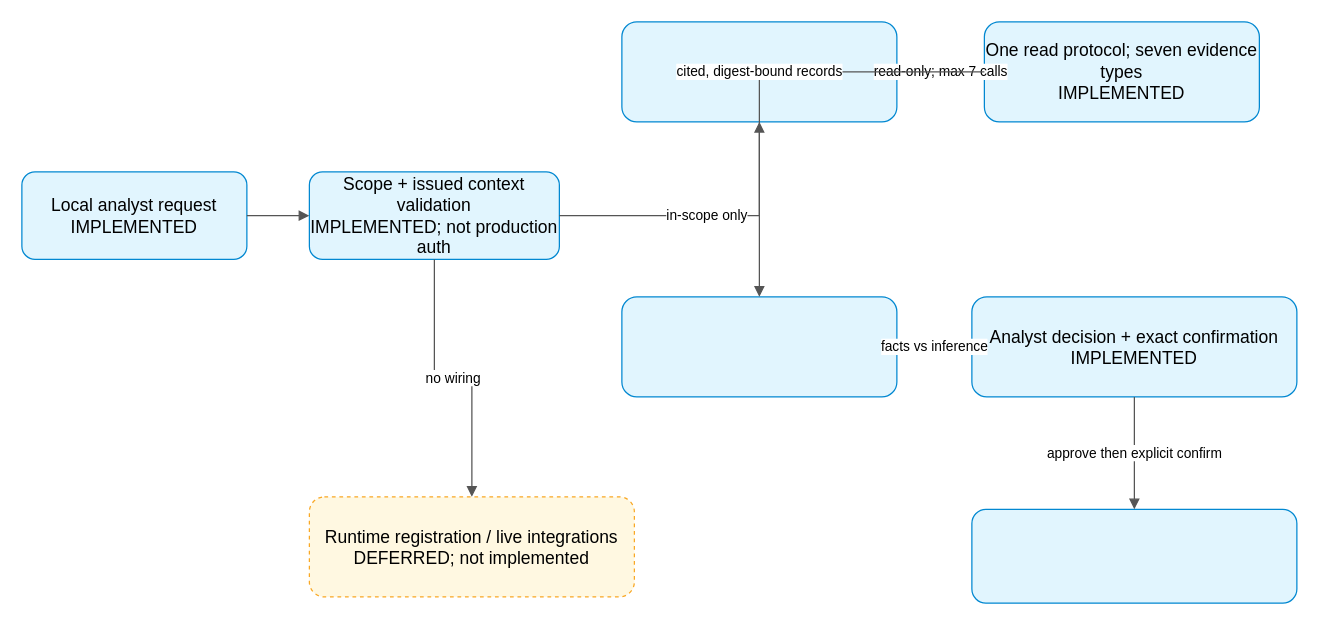
This 1319x625 diagram has some shape labels left out. Here are the shapes that lost their labels. From the top down, the centre of each, then its label:
At point 759,71: "Deterministic investigation IMPLEMENTED".
At point 759,346: "Evidence-backed proposal IMPLEMENTED".
At point 1134,555: "Immutable synthetic mock task sole business write".
